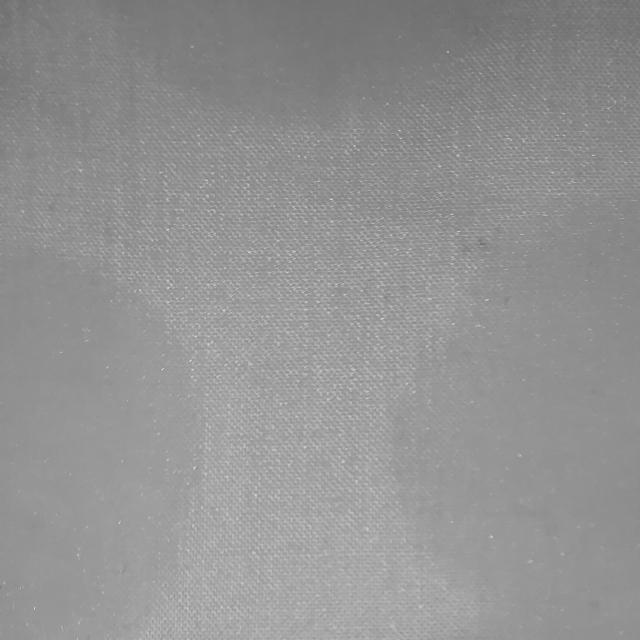Stain: (394, 201, 638, 640), (1, 249, 201, 640), (94, 0, 526, 127)
